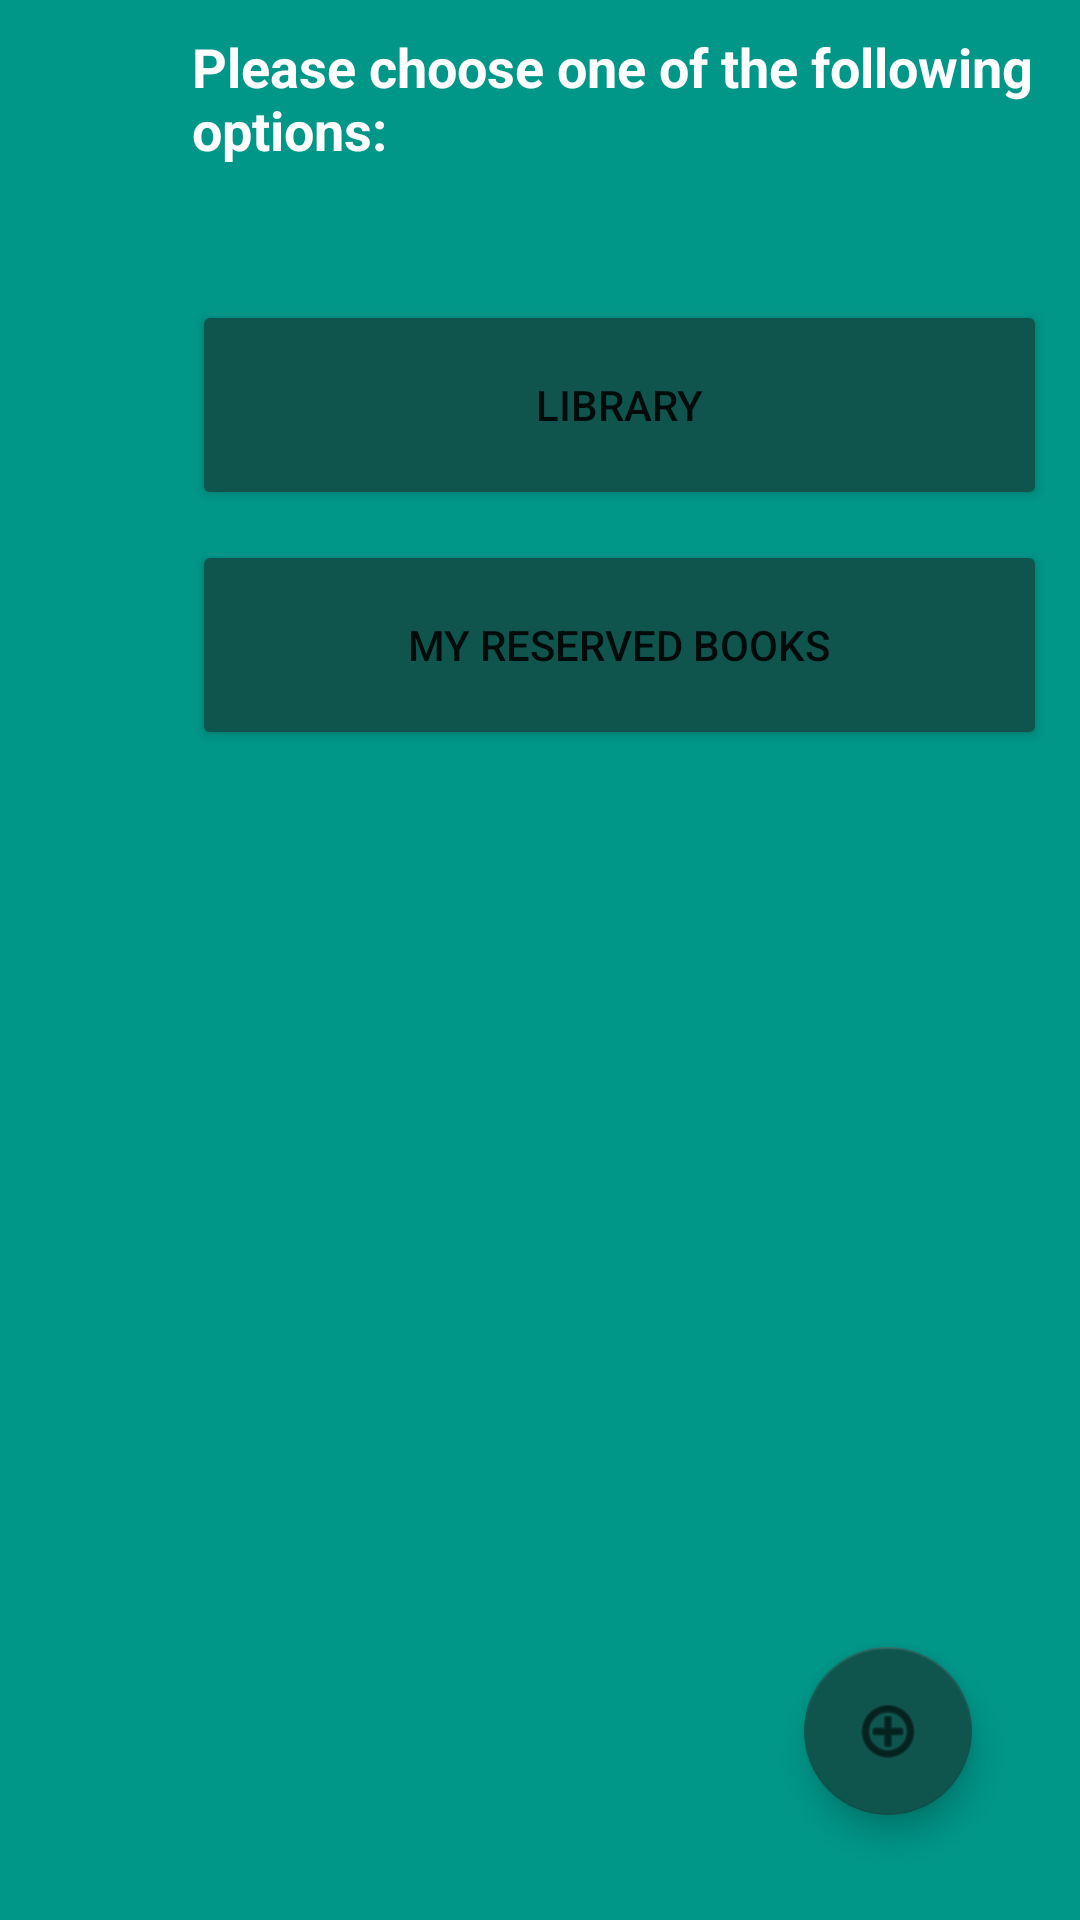

Point at icon controls on the screen. Image size 1080w x 1920h, points as (x,y).
add: (888,1731)
